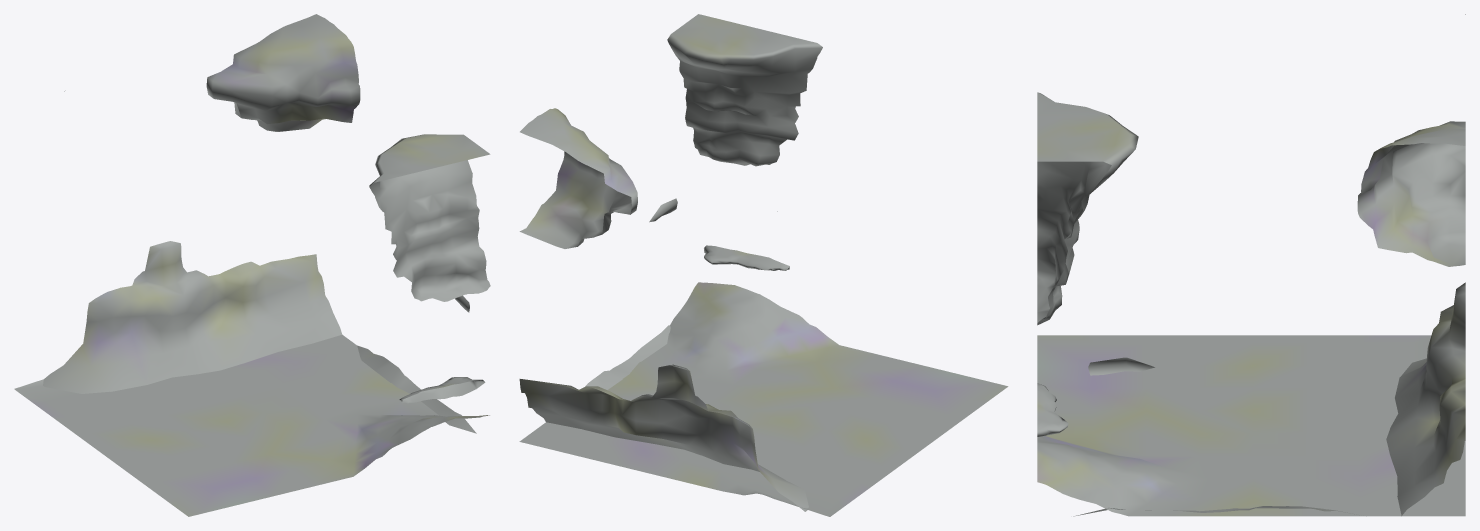
3 renders of one model, left to right at view 1: azimuth 30°, elevation 25°; view 2: azimuth 150°, elevation 25°; view 3: azimuth 270°, elevation 25°, orthographic. The views are drawn at different scales.
Visible parts, largest first — view 1: G:\FFXIV-MapTools\exports\y6f2\bg\ex5\02_ykt_y6\fld\y6f2\bgp (×4); view 2: G:\FFXIV-MapTools\exports\y6f2\bg\ex5\02_ykt_y6\fld\y6f2\bgp (×4); view 3: G:\FFXIV-MapTools\exports\y6f2\bg\ex5\02_ykt_y6\fld\y6f2\bgp (×4).
Part boxes in pixels (left/top/right/bottom): G:\FFXIV-MapTools\exports\y6f2\bg\ex5\02_ykt_y6\fld\y6f2\bgp (×4): left=14, top=14, right=490, bottom=516; G:\FFXIV-MapTools\exports\y6f2\bg\ex5\02_ykt_y6\fld\y6f2\bgp (×4): left=519, top=14, right=1008, bottom=516; G:\FFXIV-MapTools\exports\y6f2\bg\ex5\02_ykt_y6\fld\y6f2\bgp (×4): left=1037, top=14, right=1465, bottom=516.
Size of the model in its own units: 128 by 123 by 128.
